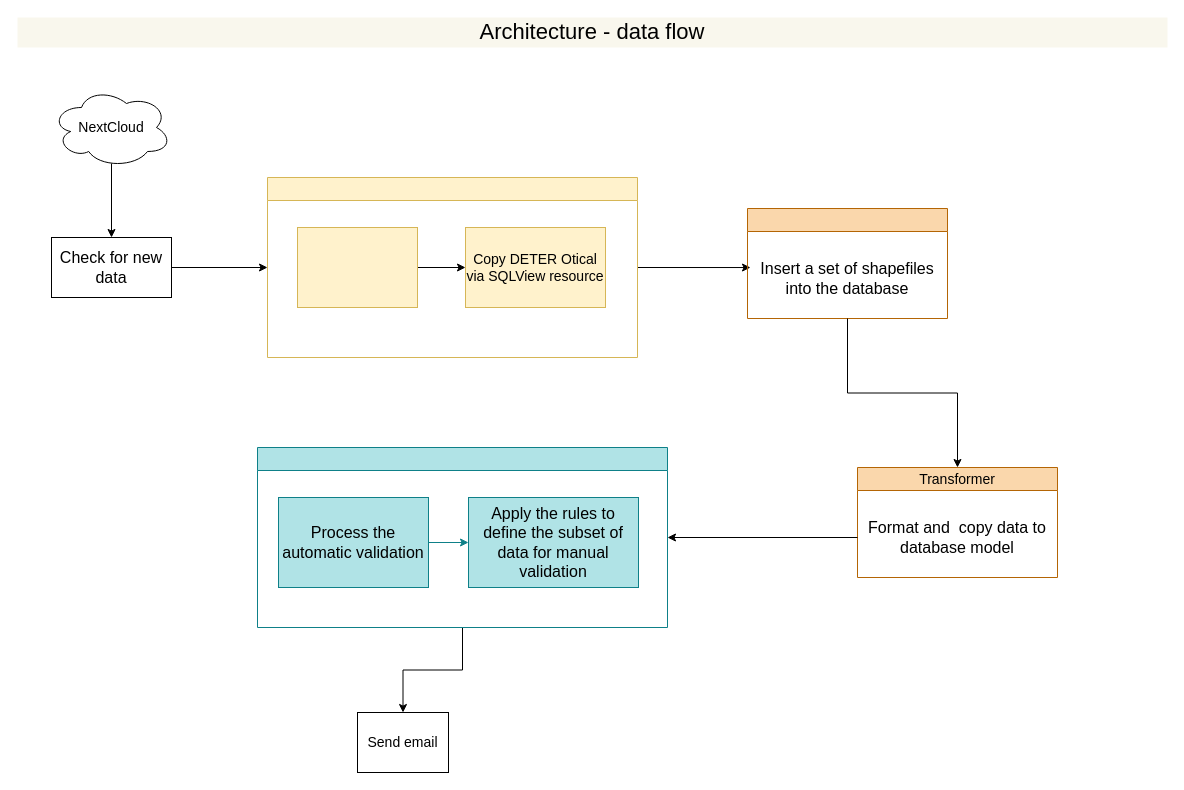
This 1184x790 diagram has some shape labels left out. Here are the shapes that lost their labels. From the top down, the box of each, then its label:
(296, 226, 418, 308): Download DETER-RT files via HTTP request
(266, 176, 638, 358): Collector
(746, 208, 948, 318): Loader
(256, 446, 668, 628): Validator
